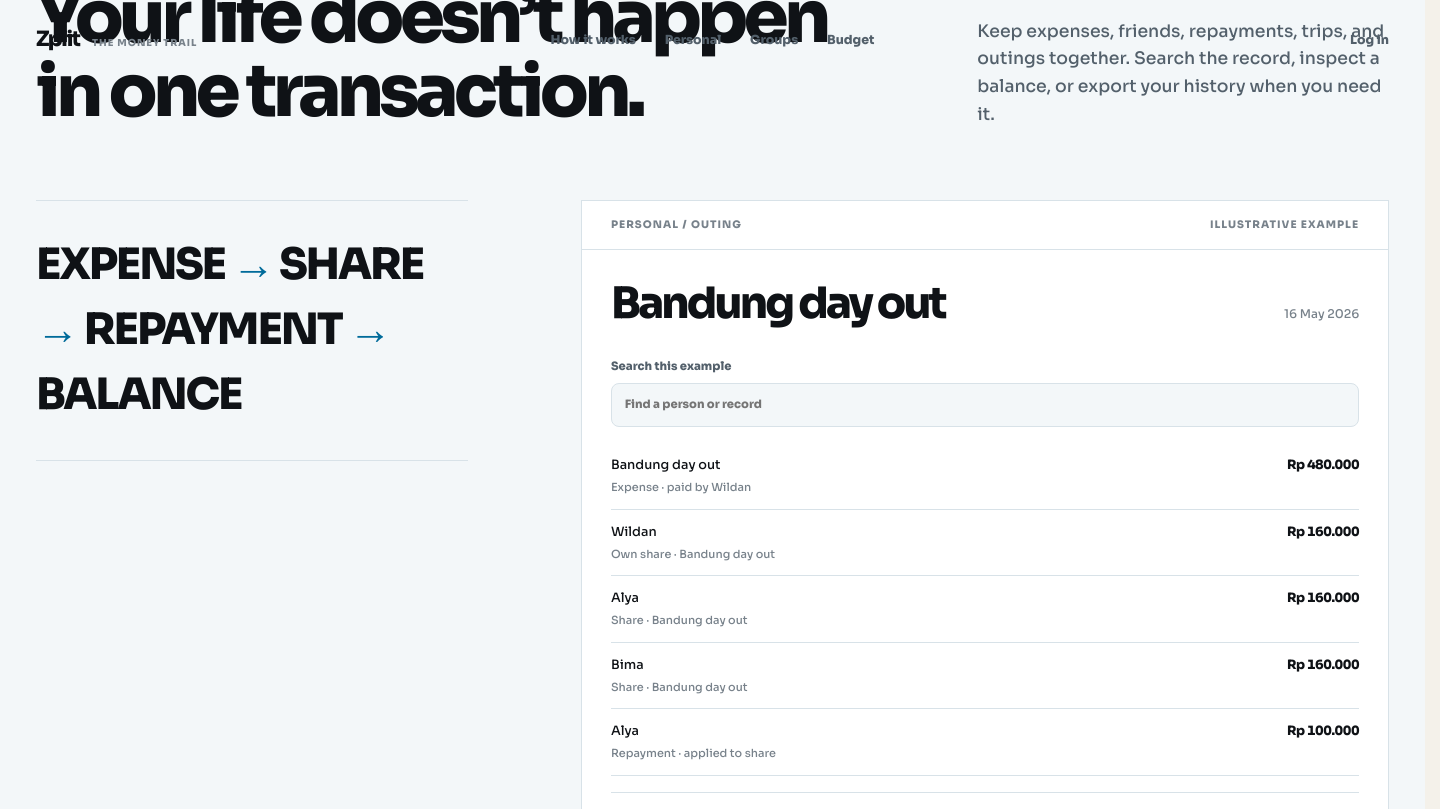
Money Trail landing › filters illustrative Personal records and keeps public scope narrow
(page scrolled)
In the search field labelled "Search this example": (985, 405) [611,383,1359,427], type "Bima"
(page scrolled)
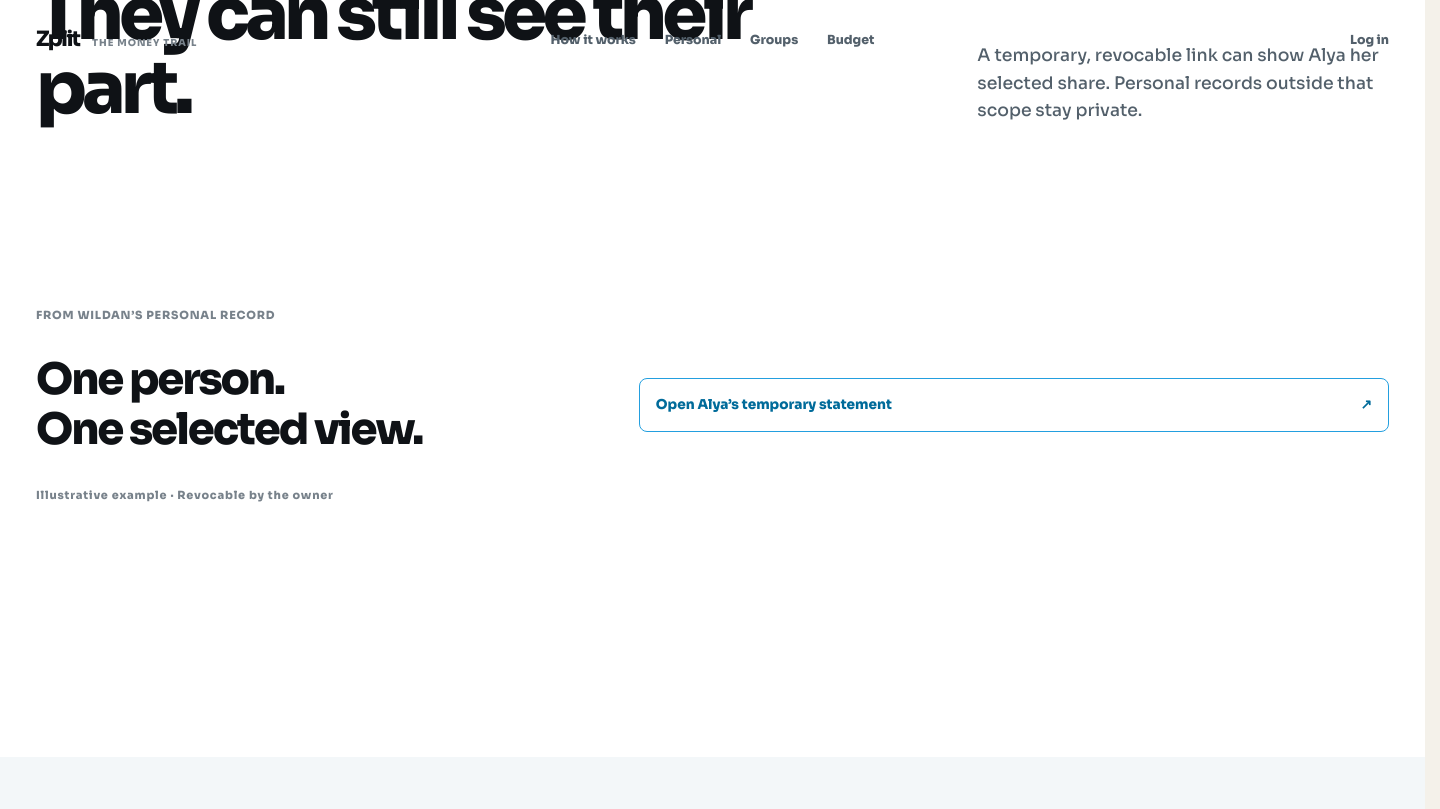
Click the heading "Open Alya’s temporary statement ↗": (774, 404) [639,378,1389,432]
(page scrolled)
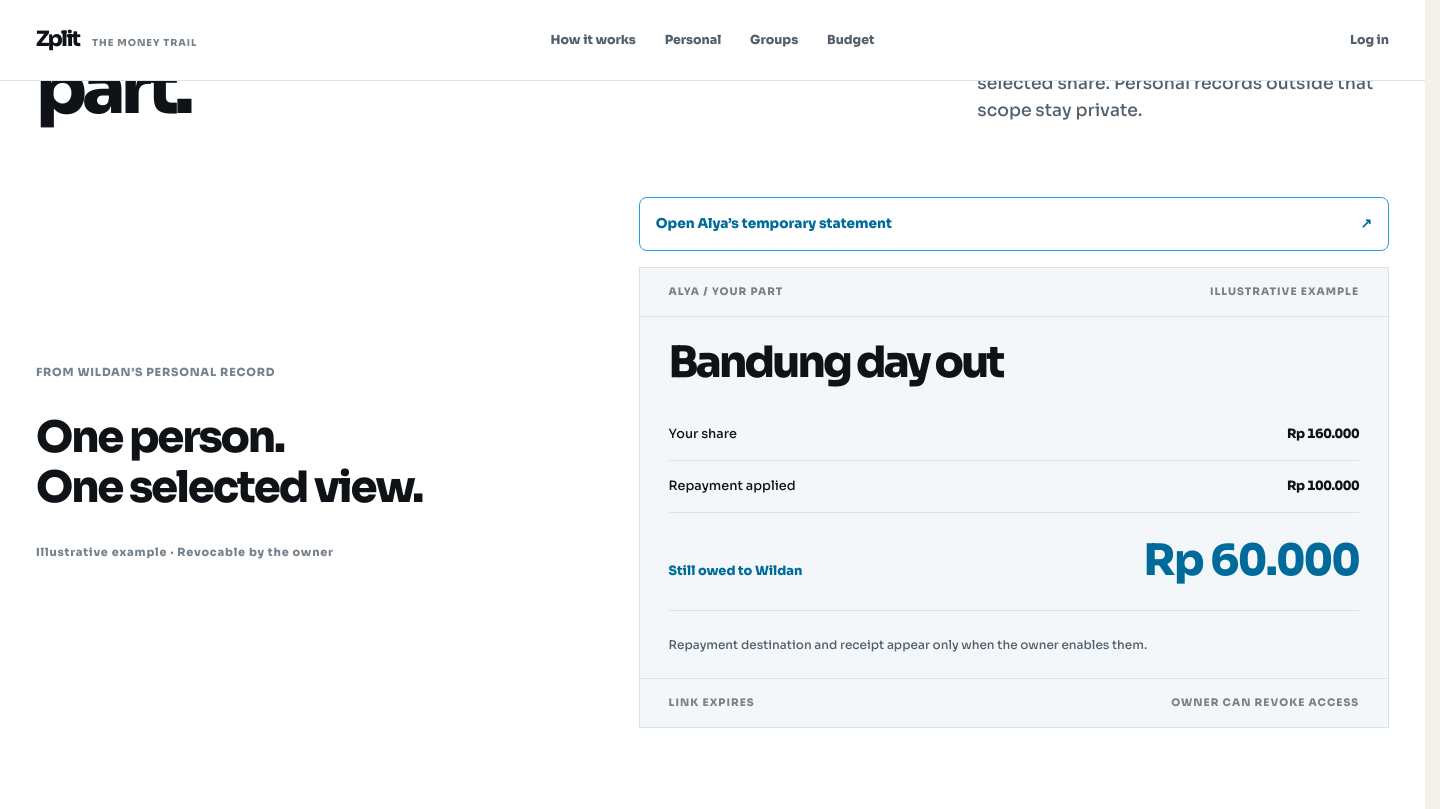
Expected: the text "Bima" is not shown
Expected: the text "Rp 60.000" is shown, [1144,530,1359,594]
